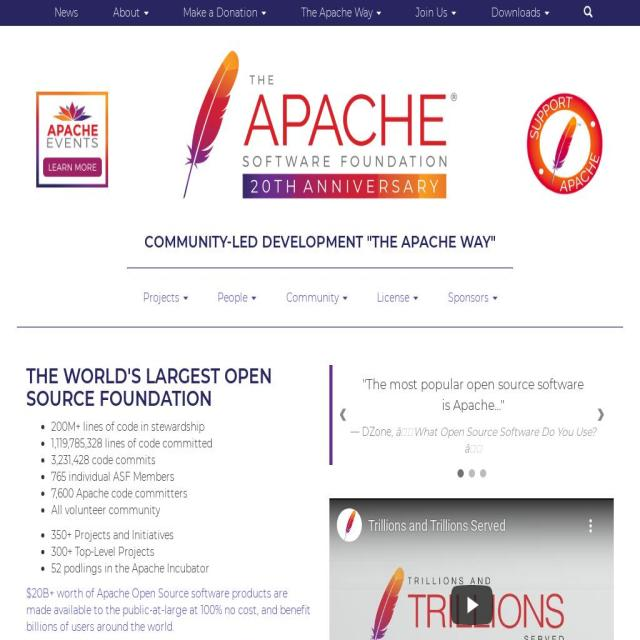button: (526, 92, 604, 196), (36, 91, 108, 188), (170, 0, 280, 25), (287, 0, 395, 25), (272, 285, 361, 310), (477, 0, 563, 25), (434, 285, 511, 310), (129, 285, 202, 310), (402, 0, 471, 25), (363, 285, 432, 310), (204, 285, 270, 310), (99, 0, 162, 25), (330, 390, 356, 440), (588, 390, 614, 440), (41, 0, 92, 25), (570, 0, 607, 25)
heading: (26, 365, 311, 410), (127, 232, 513, 251)
iframe: (329, 498, 614, 640)
image: (182, 50, 458, 199), (526, 92, 604, 196), (36, 91, 108, 188), (457, 469, 464, 478), (468, 469, 475, 478), (479, 469, 486, 478)
link: (26, 586, 311, 634)
text: (345, 373, 601, 415), (395, 424, 596, 456), (51, 418, 311, 435), (51, 435, 311, 452), (51, 468, 311, 485), (51, 485, 311, 502), (51, 543, 311, 560), (51, 560, 311, 577), (51, 452, 311, 468), (51, 502, 311, 518), (51, 527, 311, 543), (183, 5, 261, 20), (301, 5, 375, 20), (286, 290, 341, 305), (491, 5, 543, 20), (448, 290, 492, 305), (142, 290, 182, 305), (377, 290, 412, 305), (361, 424, 396, 439), (416, 5, 450, 20), (218, 290, 250, 305), (112, 5, 142, 20)
